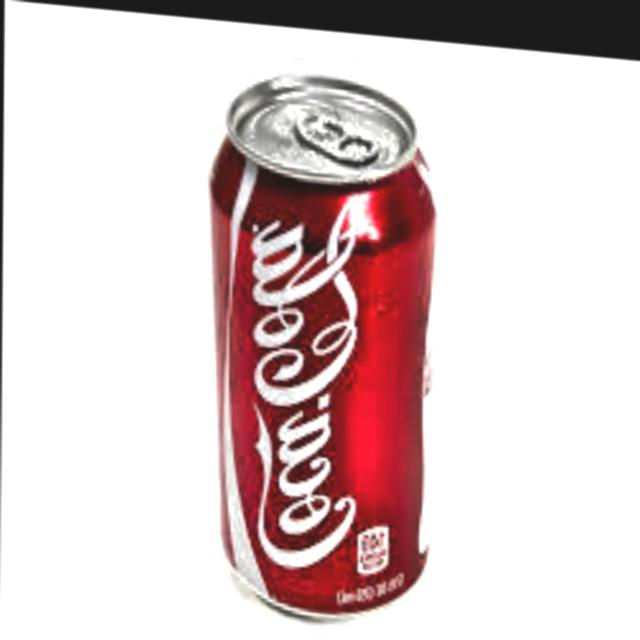can: (212, 51, 442, 624)
